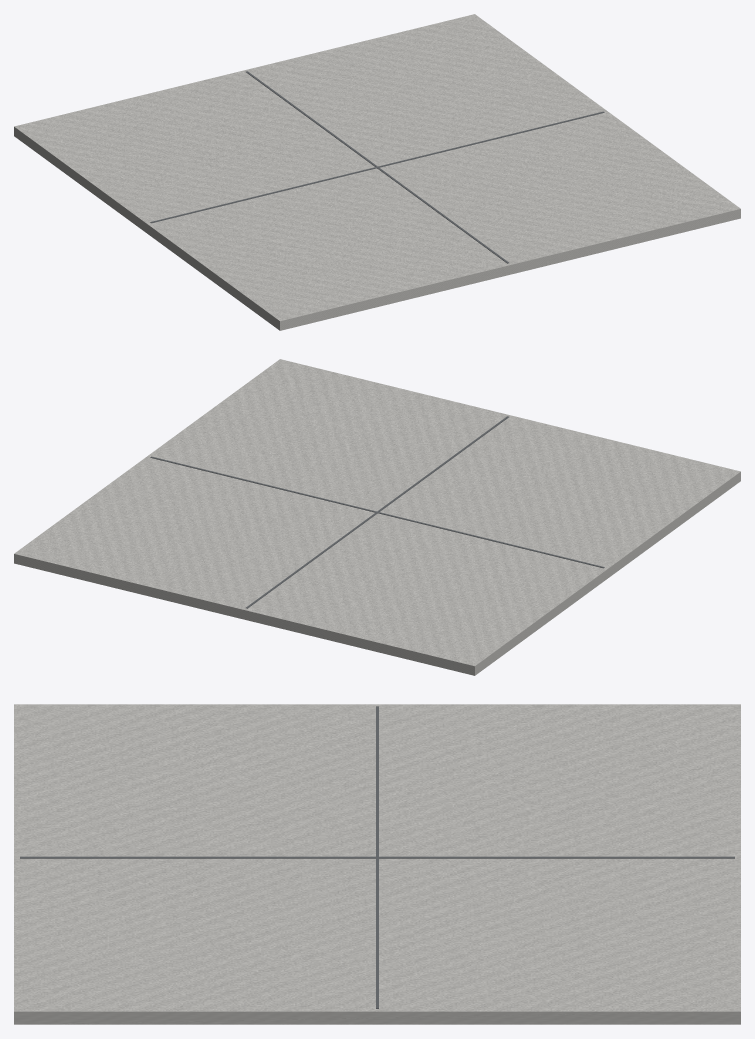
Rendered from concrete-floor-tile-plain-6-m.glb.
3 renders of one model, top to bottom at view 1: azimuth 30°, elevation 25°; view 2: azimuth 150°, elevation 25°; view 3: azimuth 270°, elevation 25°, orthographic. The views are drawn at different scales.
Parts seen in each view (by area): view 1: machine-shop-and-factory-hall-floor-tile-plain; view 2: machine-shop-and-factory-hall-floor-tile-plain; view 3: machine-shop-and-factory-hall-floor-tile-plain.
Boxes of the visible parts, left/top/right/bottom form: machine-shop-and-factory-hall-floor-tile-plain: left=14, top=14, right=740, bottom=330; machine-shop-and-factory-hall-floor-tile-plain: left=14, top=359, right=740, bottom=675; machine-shop-and-factory-hall-floor-tile-plain: left=14, top=704, right=740, bottom=1024.
Bounding box in the file's own units: 6 × 0.1259 × 6.
Materials: 2 (1 with a texture image).
